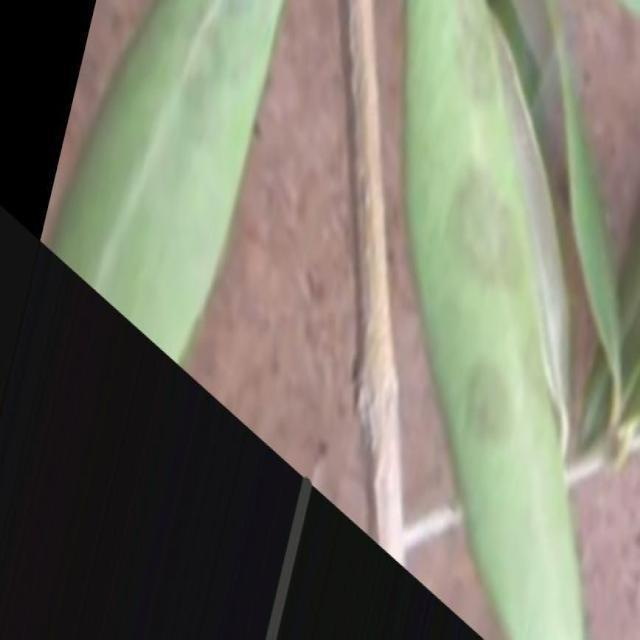OlivePeacockSpot: (406, 0, 584, 639)
